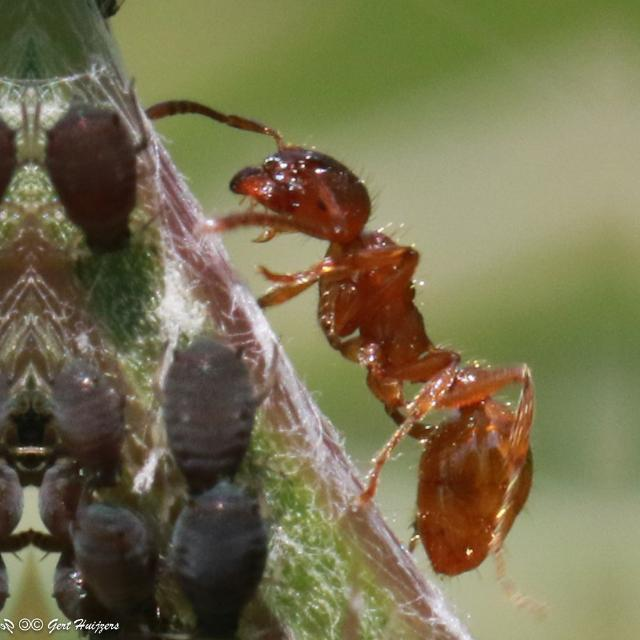Myrmica: (164, 64, 594, 548)
